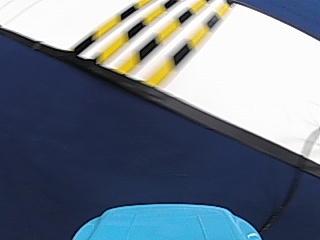bump: (80, 3, 205, 70)
